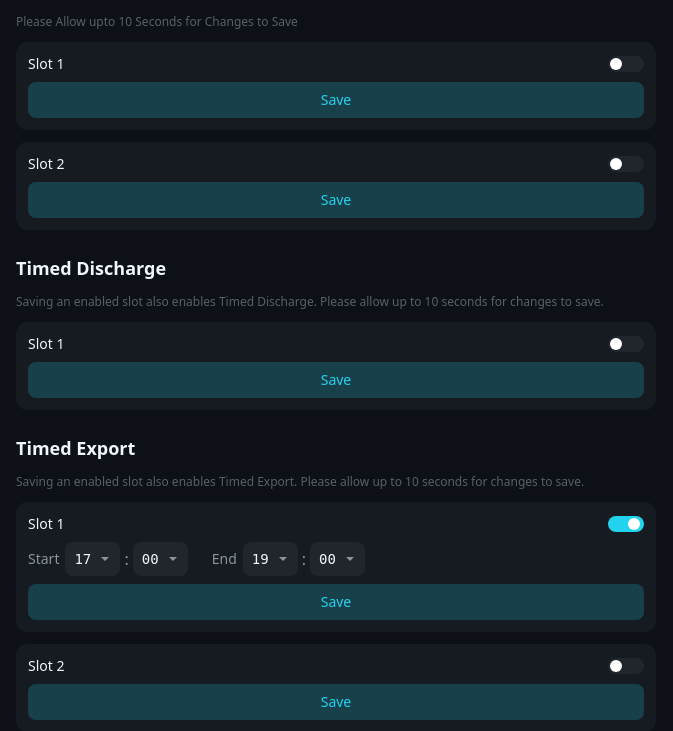
Test: <ControlPage/> — independent battery mechanisms › reports an unconfirmed Timed Discharge save when readback times out
The image size is (673, 731).
(page scrolled)
What coordinates should you click on to do the following:
click the 3rd button "Save"
I would click on:
 (336, 380)
Its box is x1=28 y1=362 x2=644 y2=398.
Wait 15000 ms
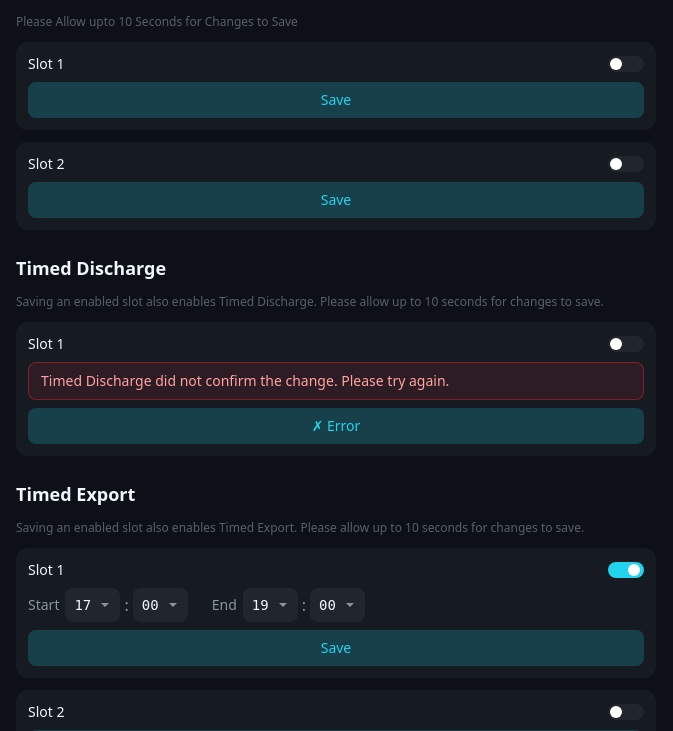
Result: the message reads "Timed Discharge did not confirm the change. Please try again." at x1=41 y1=371 x2=449 y2=390
